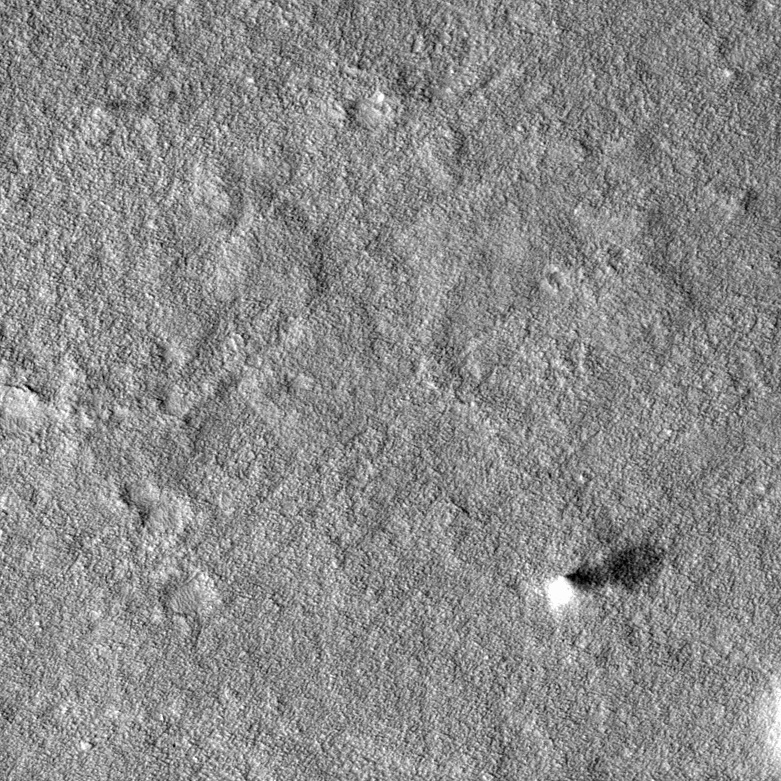dust_devil: (541, 542, 669, 613)
